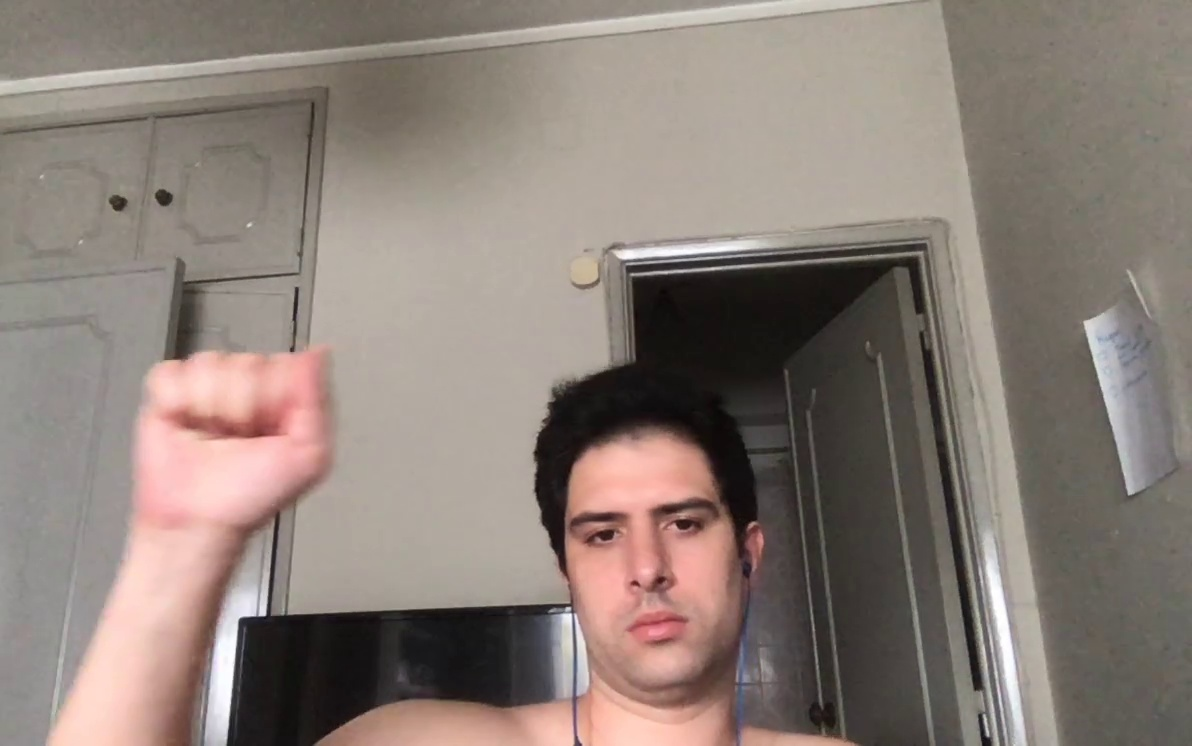a: (127, 344, 343, 524)
